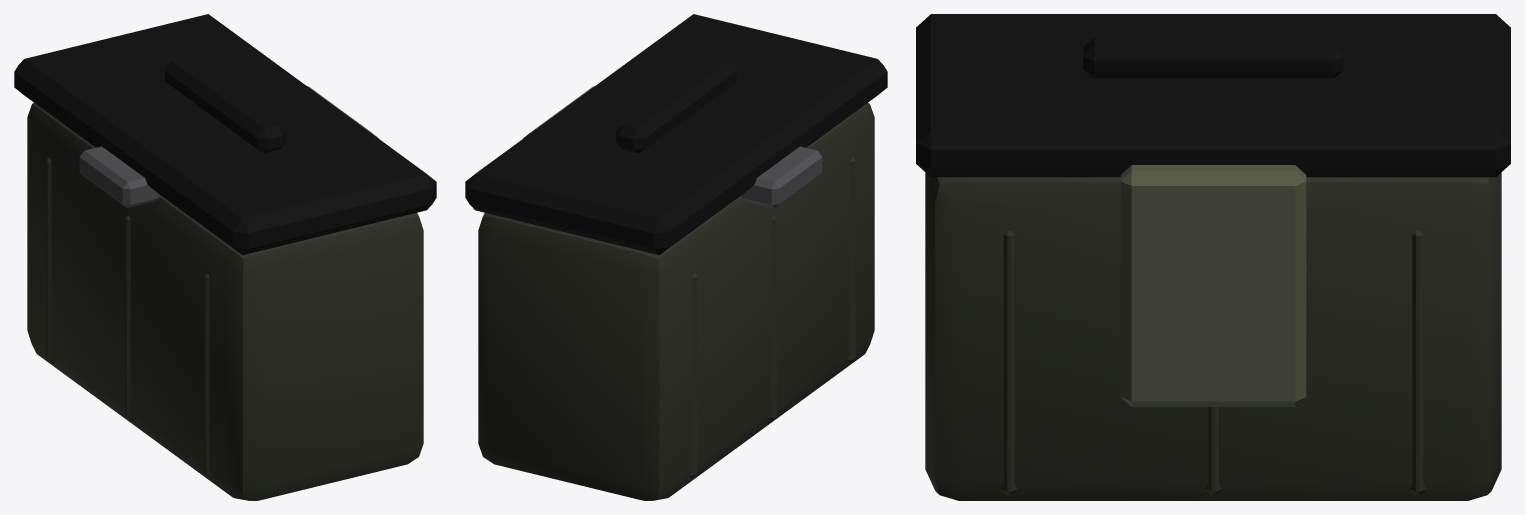
The model's file is lmg_ammo_box.glb.
The picture shows the model from 3 angles, left to right: view 1: azimuth 30°, elevation 25°; view 2: azimuth 150°, elevation 25°; view 3: azimuth 270°, elevation 25°; orthographic projection. The views are drawn at different scales.
Parts seen in each view (by area): view 1: lmg_ammo_box_LOD0; view 2: lmg_ammo_box_LOD0; view 3: lmg_ammo_box_LOD0.
Boxes of the visible parts, x1=… form: lmg_ammo_box_LOD0: x1=14, y1=14, x2=436, y2=500; lmg_ammo_box_LOD0: x1=465, y1=14, x2=887, y2=500; lmg_ammo_box_LOD0: x1=916, y1=14, x2=1510, y2=500.
Size of what is drawn, in the model's own units: 0.099 by 0.122 by 0.16.
